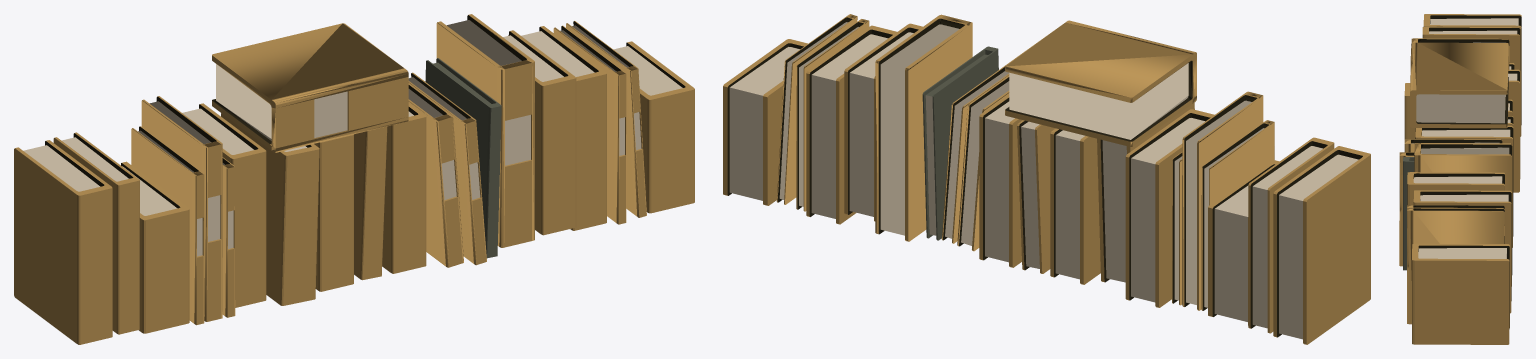
Rendered from Books lng row.fbx.
The picture shows the model from 3 angles, left to right: view 1: azimuth 30°, elevation 25°; view 2: azimuth 150°, elevation 25°; view 3: azimuth 270°, elevation 25°; orthographic projection. The views are drawn at different scales.
Parts seen in each view (by area): view 1: BOOK_LABEL_8, Box002_36, BOOK_LABEL_1, Box002_32, Box002, Box002_29, Box002_31, Box002_2, Box002_27, Box002_25, BOOK_LABEL_2, Box002_34 (+9 smaller); view 2: BOOK_LABEL_8, Box002_36, BOOK_LABEL_1, Box002_2, Box002, Box002_25, Box002_33, Box002_27, BOOK_LABEL_2, Box002_29, Box002_34, Box002_31 (+9 smaller); view 3: Box002, BOOK_LABEL_8, BOOK_LABEL_5, BOOK_LABEL_1, Box002_25, Box002_29, Box002_34, Box002_36, Box002_27, Box002_2, Box002_1, BOOK_LABEL_2 (+4 smaller).
Part boxes in pixels (<box>): BOOK_LABEL_8: <box>212,23,408,152</box>; Box002_36: <box>14,140,112,344</box>; BOOK_LABEL_1: <box>436,14,534,247</box>; Box002_32: <box>221,113,319,305</box>; Box002: <box>613,41,694,213</box>; Box002_29: <box>503,30,576,235</box>; Box002_31: <box>121,161,189,333</box>; Box002_2: <box>182,103,266,307</box>; Box002_27: <box>382,103,426,273</box>; Box002_25: <box>508,26,606,230</box>; BOOK_LABEL_2: <box>141,96,222,321</box>; Box002_34: <box>53,132,139,334</box>; BOOK_LABEL_8: <box>1005,20,1196,146</box>; Box002_36: <box>1273,146,1370,344</box>; BOOK_LABEL_1: <box>875,14,972,241</box>; Box002_2: <box>1125,109,1214,307</box>; Box002: <box>723,39,807,205</box>; Box002_25: <box>806,25,896,224</box>; Box002_33: <box>1050,128,1100,284</box>; Box002_27: <box>979,94,1022,267</box>; BOOK_LABEL_2: <box>1182,91,1263,310</box>; Box002_29: <box>844,23,922,221</box>; Box002_34: <box>1248,137,1334,333</box>; Box002_31: <box>1208,160,1279,325</box>; Box002: <box>1412,243,1509,344</box>; BOOK_LABEL_8: <box>1410,42,1508,128</box>; BOOK_LABEL_5: <box>1407,208,1504,324</box>; BOOK_LABEL_1: <box>1414,143,1512,286</box>; Box002_25: <box>1413,190,1511,313</box>; Box002_29: <box>1407,172,1504,204</box>; Box002_34: <box>1422,26,1520,70</box>; Box002_36: <box>1423,14,1521,136</box>; Box002_27: <box>1415,125,1513,247</box>; Box002_2: <box>1508,69,1520,192</box>; Box002_1: <box>1403,157,1414,270</box>; BOOK_LABEL_2: <box>1411,38,1509,69</box>.
Size of the model in its own units: 337 by 107 by 78.82.
